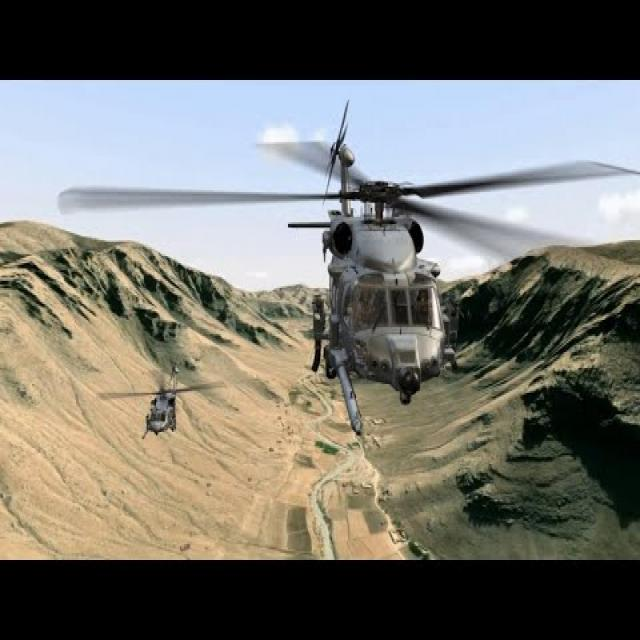helicopter: (185, 101, 461, 447), (83, 337, 234, 454)
